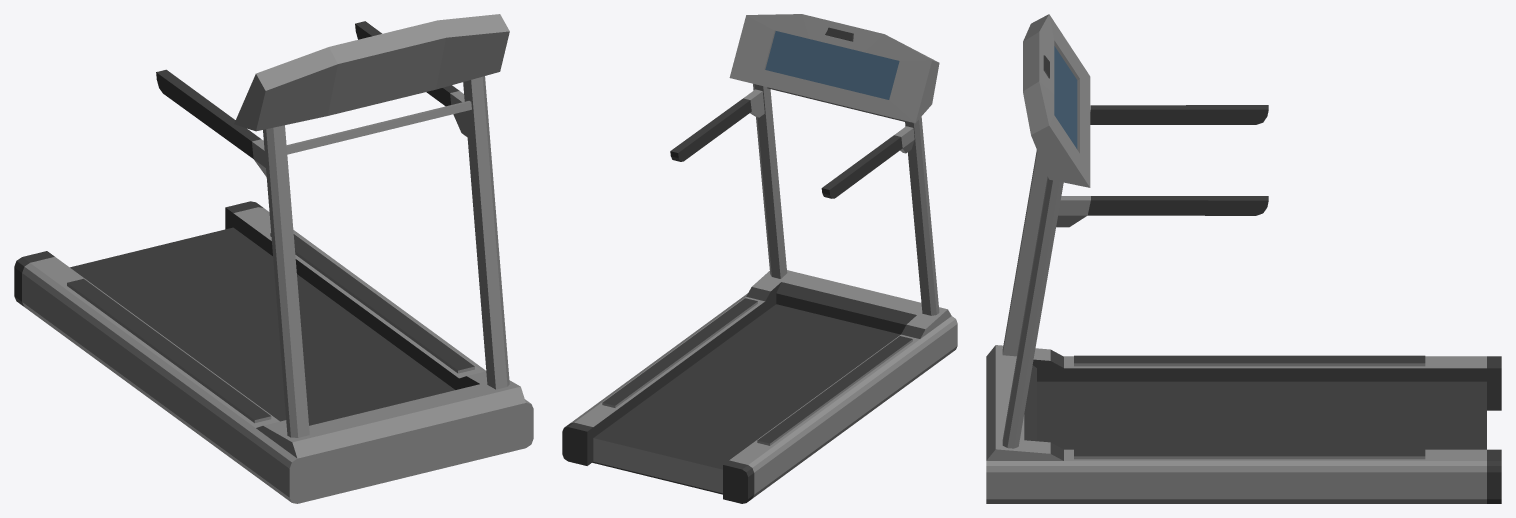
Rendered from Treadmill_1_Main.fbx.
3 views of the same model, side by side, from view 1: azimuth 30°, elevation 25°; view 2: azimuth 150°, elevation 25°; view 3: azimuth 270°, elevation 25° (orthographic). The views are drawn at different scales.
Parts seen in each view (by area): view 1: Treadmill_1_Main; view 2: Treadmill_1_Main; view 3: Treadmill_1_Main.
Part boxes in pixels (x1=…): Treadmill_1_Main: x1=14, y1=14, x2=533, y2=503; Treadmill_1_Main: x1=562, y1=14, x2=957, y2=503; Treadmill_1_Main: x1=986, y1=14, x2=1501, y2=503.
Size of the model in its own units: 87.78 by 147 by 171.
